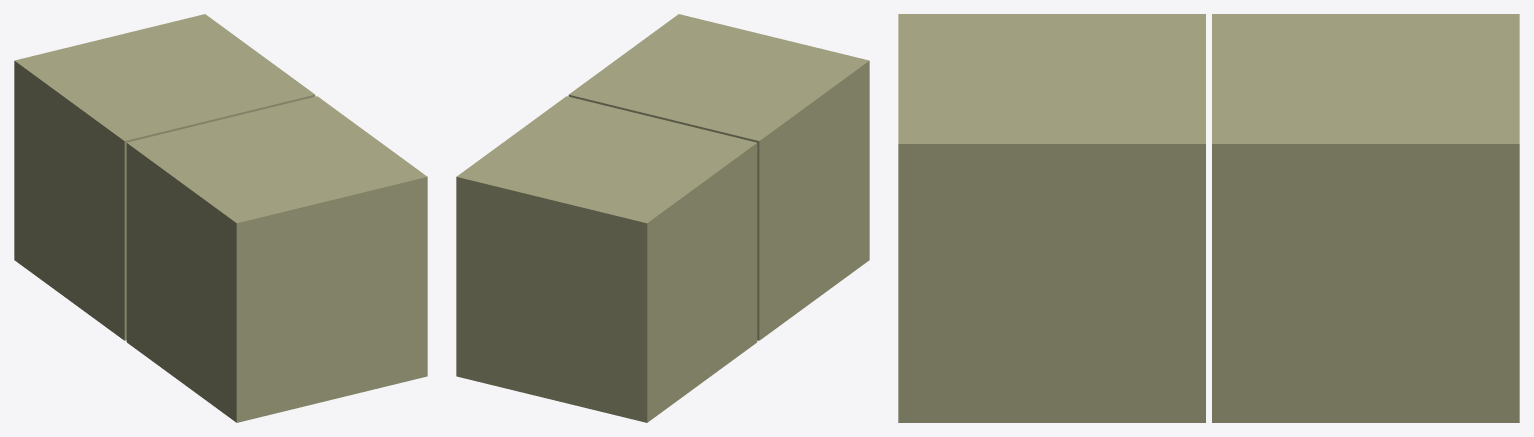
Rendered from BotonesUP.obj.
3 renders of one model, left to right at view 1: azimuth 30°, elevation 25°; view 2: azimuth 150°, elevation 25°; view 3: azimuth 270°, elevation 25°, orthographic. The views are drawn at different scales.
Visible parts, largest first — view 1: SirenaPequenaBaja1 polySurface26, polySurface4 SirenaPequenaBaja1; view 2: polySurface4 SirenaPequenaBaja1, SirenaPequenaBaja1 polySurface26; view 3: polySurface4 SirenaPequenaBaja1, SirenaPequenaBaja1 polySurface26.
Boxes of the visible parts, bbox=[...] form: SirenaPequenaBaja1 polySurface26: bbox=[126, 96, 427, 422]; polySurface4 SirenaPequenaBaja1: bbox=[14, 14, 315, 340]; polySurface4 SirenaPequenaBaja1: bbox=[456, 96, 757, 422]; SirenaPequenaBaja1 polySurface26: bbox=[568, 14, 869, 340]; polySurface4 SirenaPequenaBaja1: bbox=[1212, 14, 1519, 422]; SirenaPequenaBaja1 polySurface26: bbox=[898, 14, 1205, 422].
Size of the model in its own units: 0.1325 by 0.1325 by 0.2675.
Materials: 1 (1 with a texture image).
